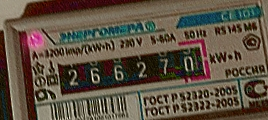0: (180, 53, 193, 74)
2: (64, 65, 80, 88), (133, 59, 148, 80)
6: (110, 62, 125, 82), (87, 65, 101, 86)
7: (156, 56, 170, 76)
screen: (42, 30, 220, 109)
